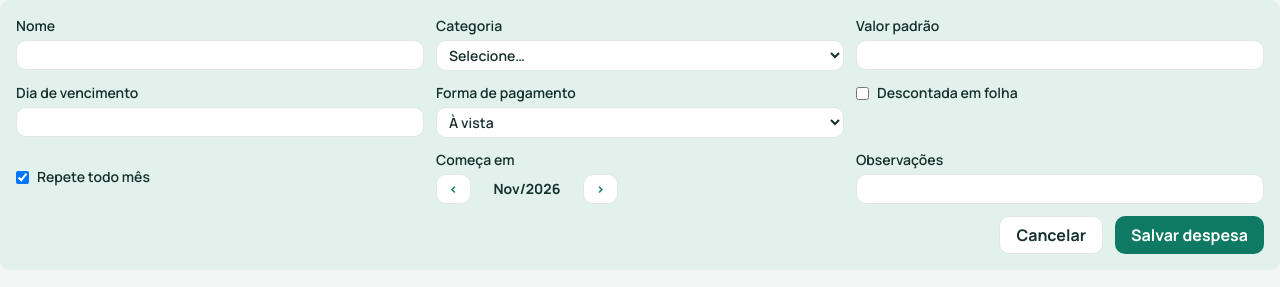
card payment shows a required card select and hides payroll deduction
The image size is (1280, 287).
Expected: the checkbox labelled "Descontada em folha" is shown, [856, 86, 869, 100]
Select "Cartão" in the dropdown labelled "Forma de pagamento". click: point(640, 122)
box: [436, 107, 844, 138]
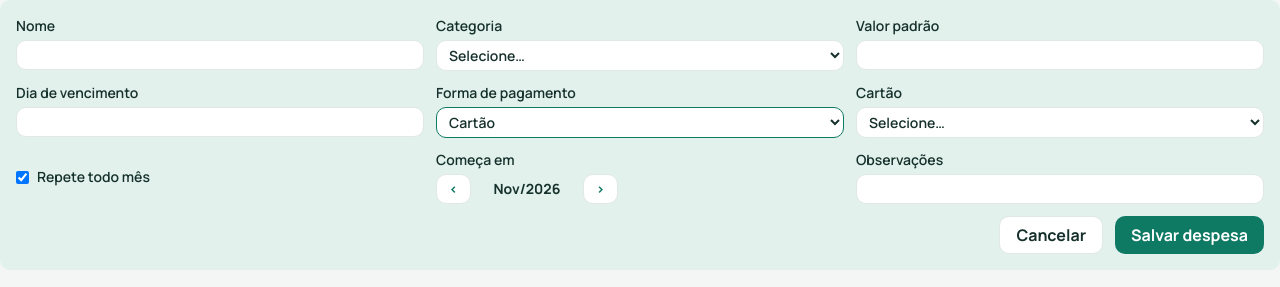
Expected: the label labelled "Descontada em folha" is gone
